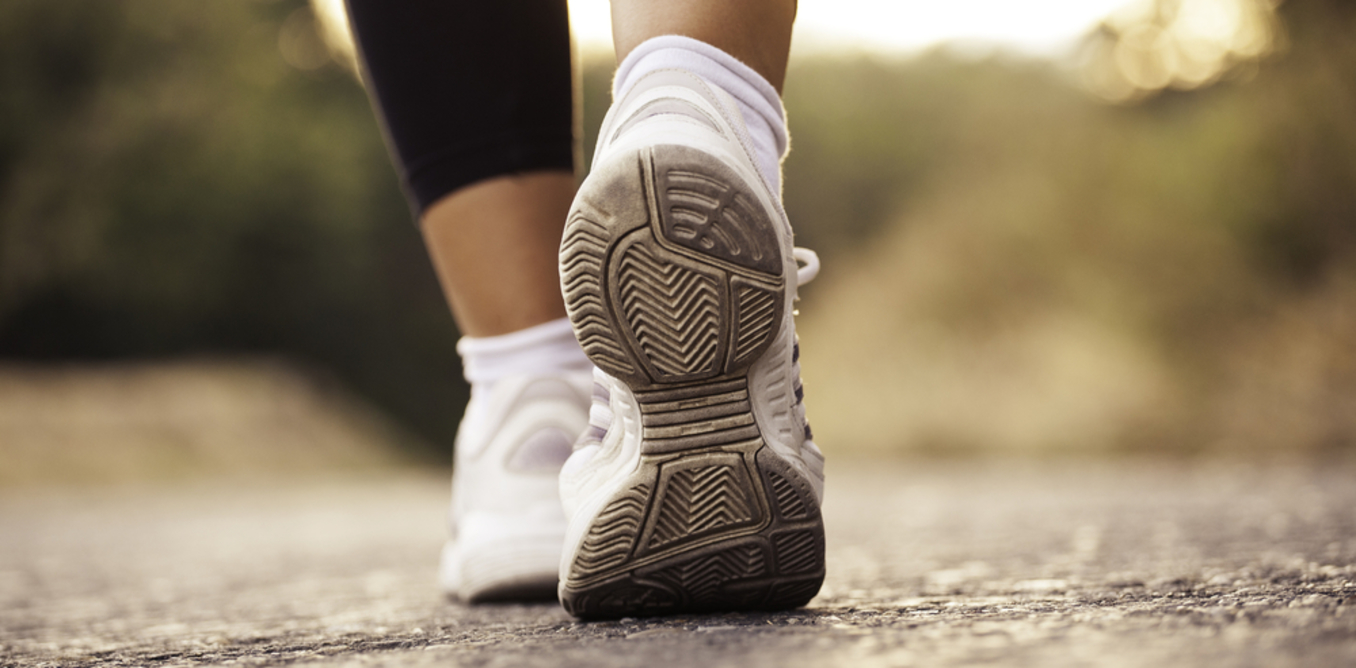feet: (324, 55, 847, 635)
